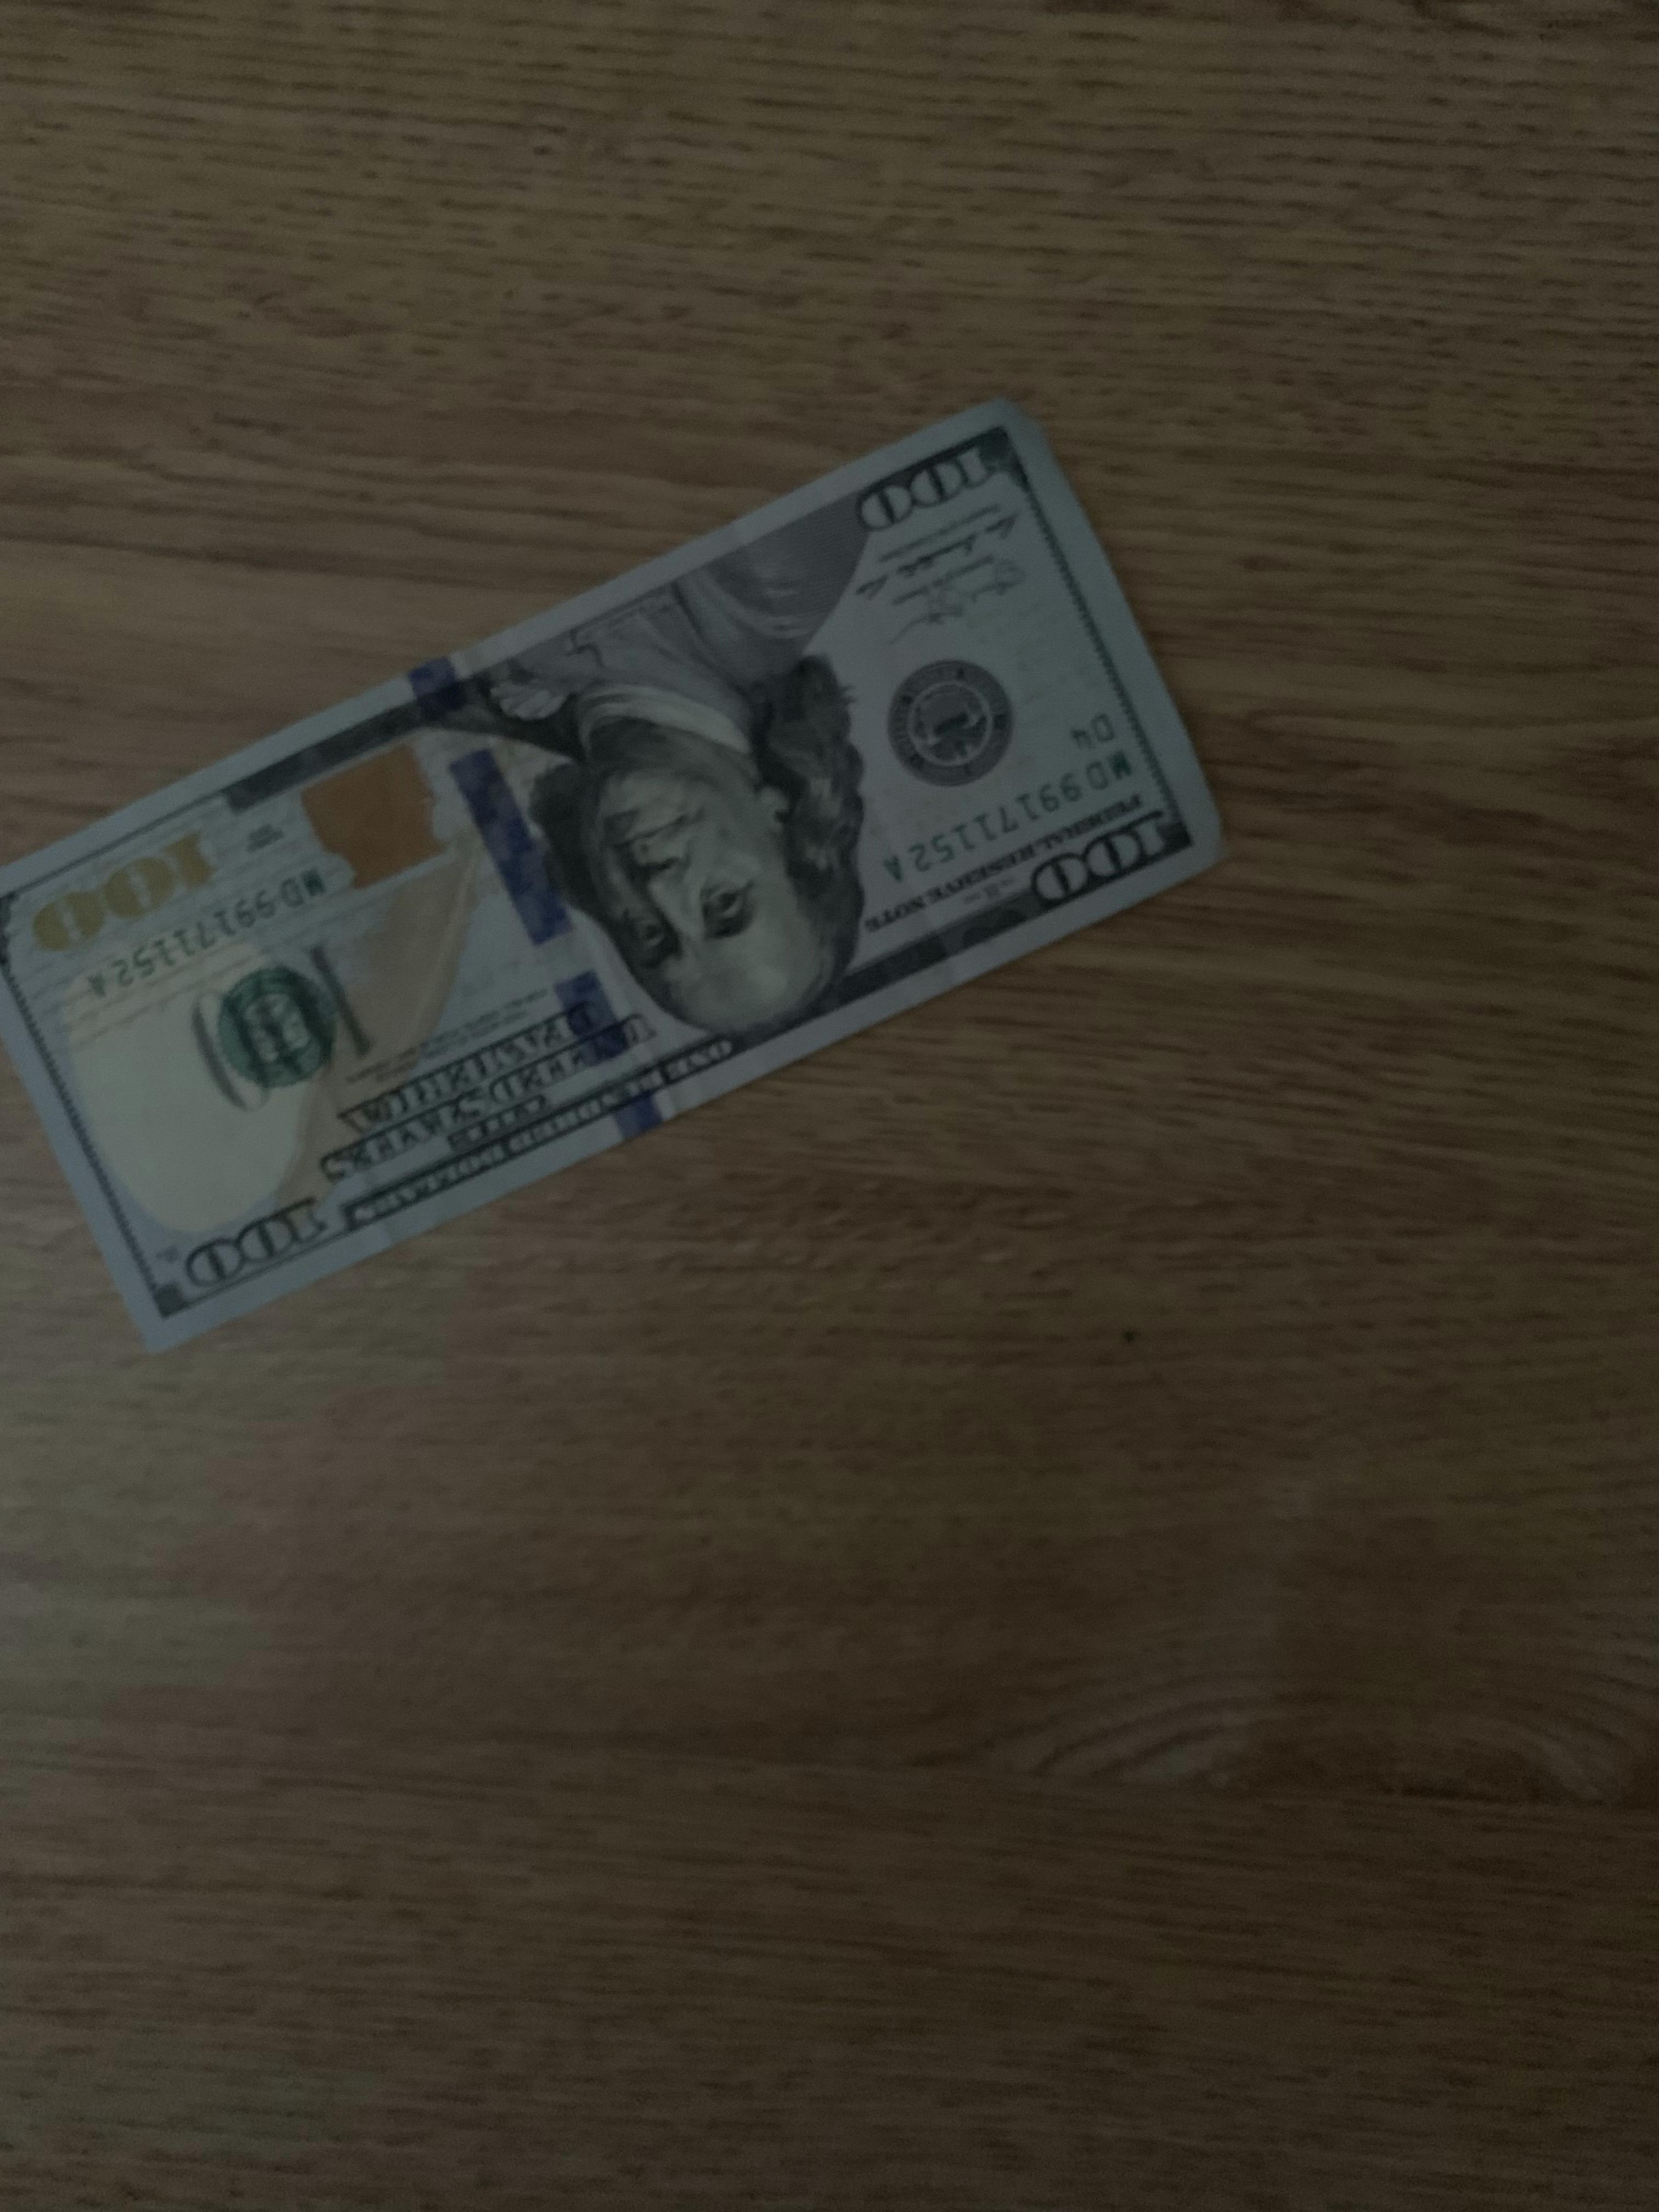HundredBill: (2, 392, 1230, 1372)
